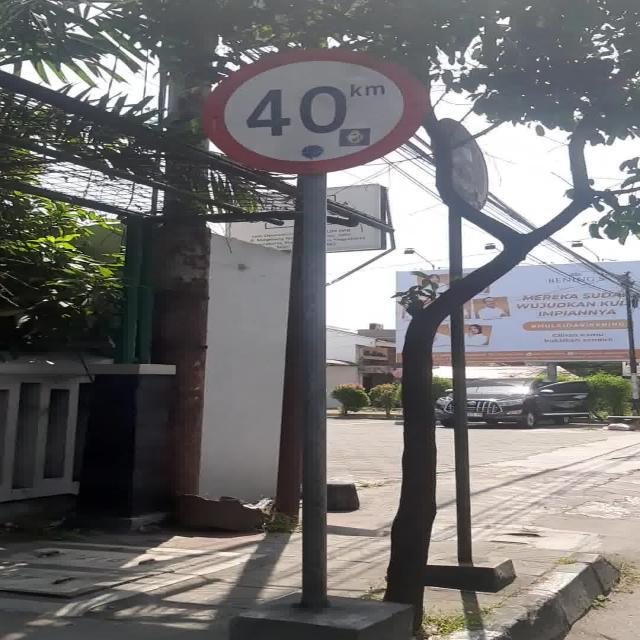Kecepatan Maks. 40 km: (200, 48, 430, 172)
